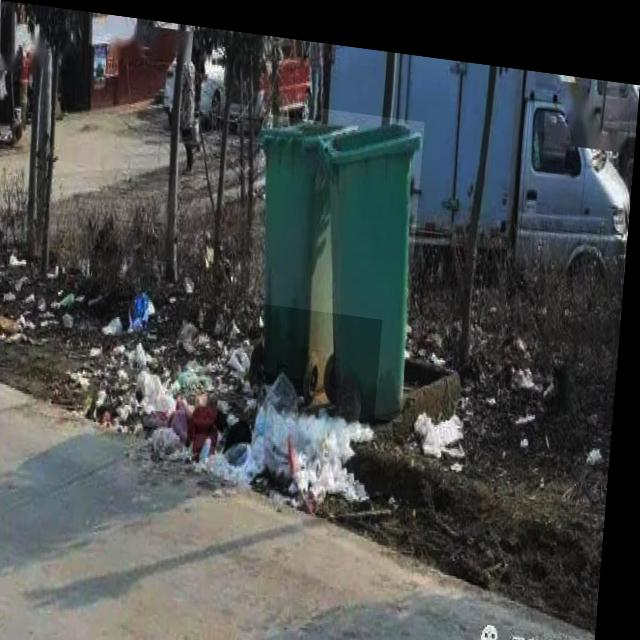garbage: (126, 283, 387, 508)
garbage_bin: (304, 99, 426, 410), (247, 106, 352, 378)
